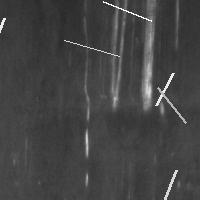scratches: (105, 1, 135, 112), (141, 1, 165, 116), (79, 16, 93, 193), (152, 82, 190, 127), (59, 35, 124, 61), (98, 0, 156, 26), (145, 165, 181, 200), (151, 68, 178, 110), (0, 13, 9, 98)
